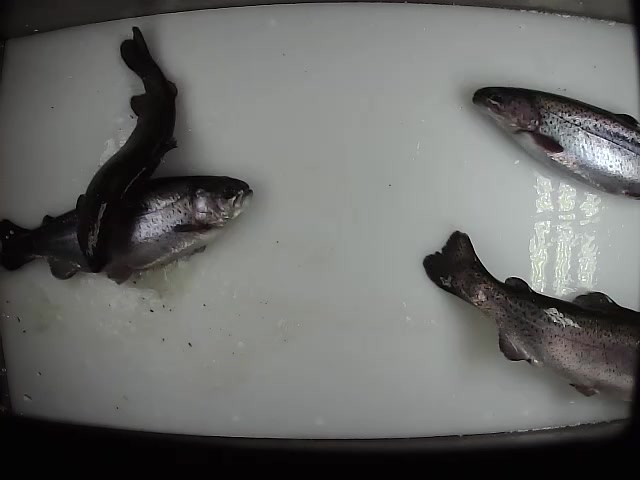fish: (1, 173, 255, 287), (75, 23, 181, 275)
